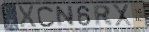6: (76, 5, 93, 27)
C: (36, 5, 56, 29)
N: (55, 5, 76, 29)
R: (92, 5, 115, 28)
X: (16, 5, 38, 30), (112, 4, 134, 28)
